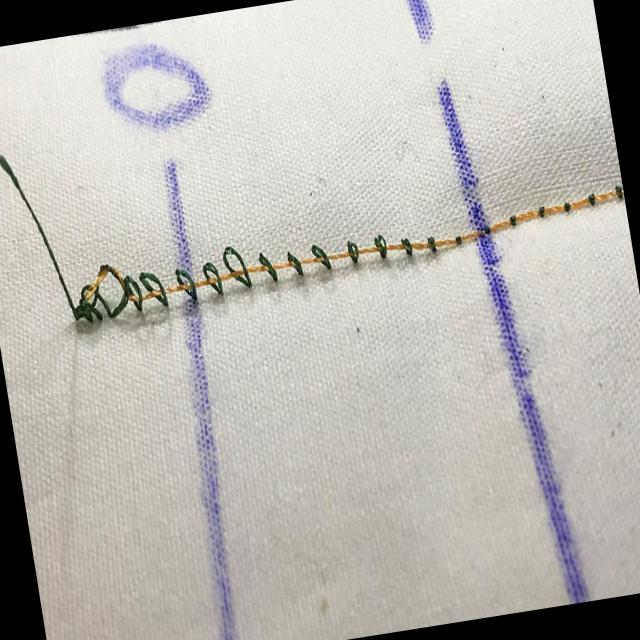gray stitch: (59, 170, 634, 342)
